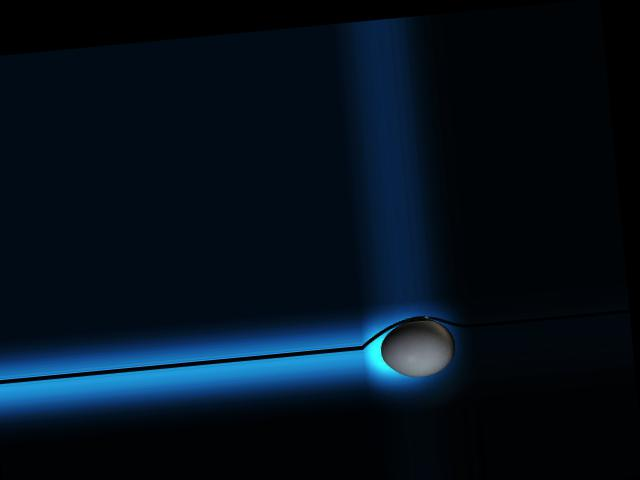egg: (378, 316, 457, 379)
